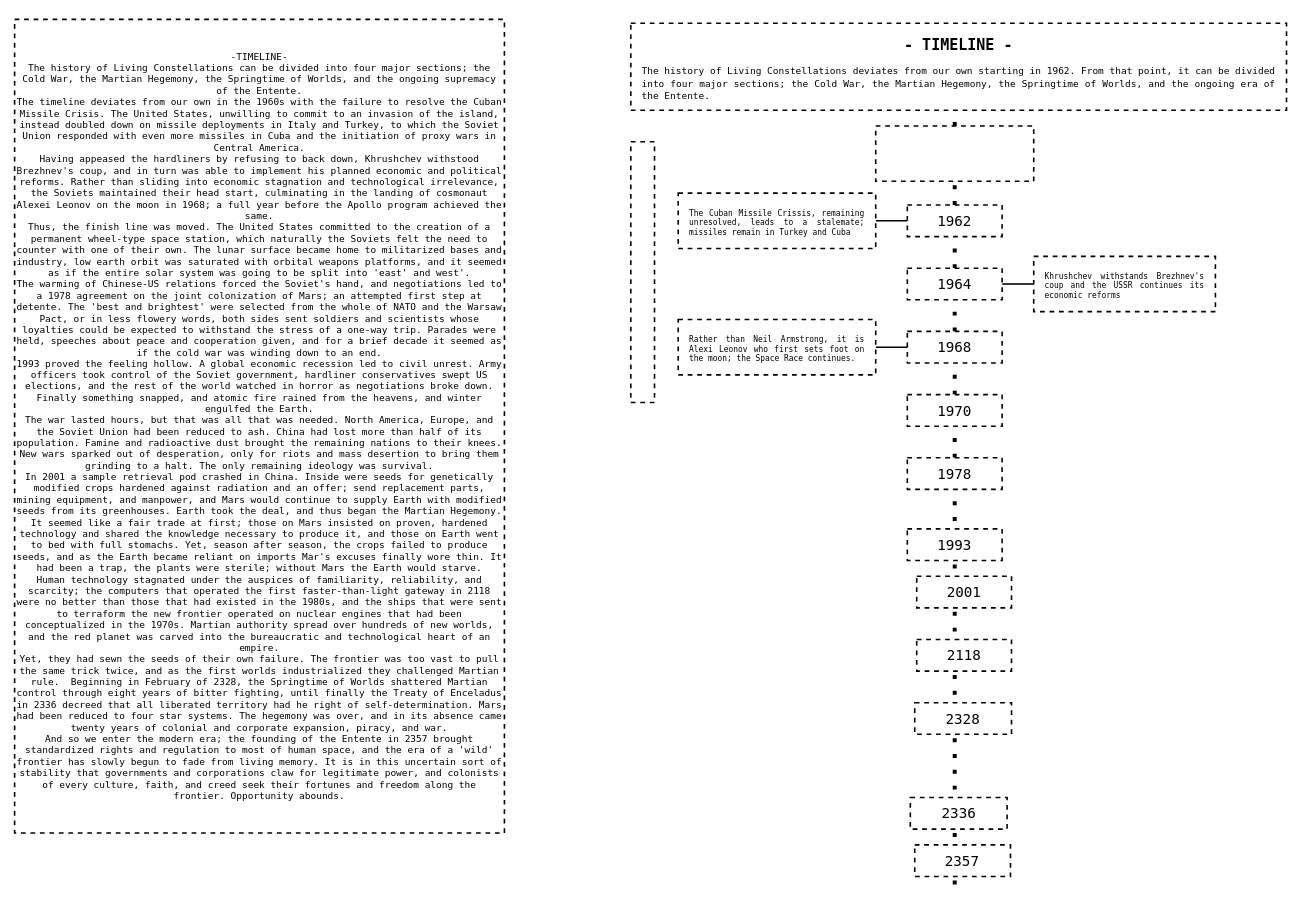
Some shapes in this 1300 by 901 pixel diagram are drawn without their labels. Here are the shapes that lost their labels. From the top down, the centre of each, then its label:
At [954,153]: "1960 Timeline Diverges".
At [642,272]: "- The Cold War -".
